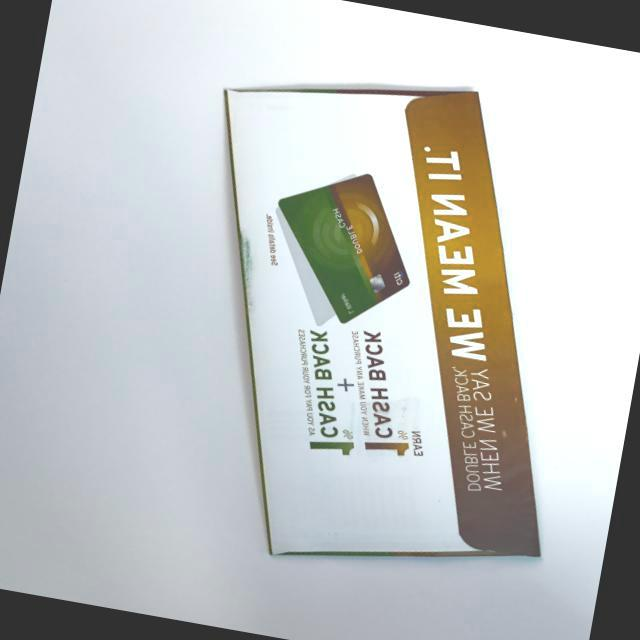paper: (96, 34, 640, 634)
